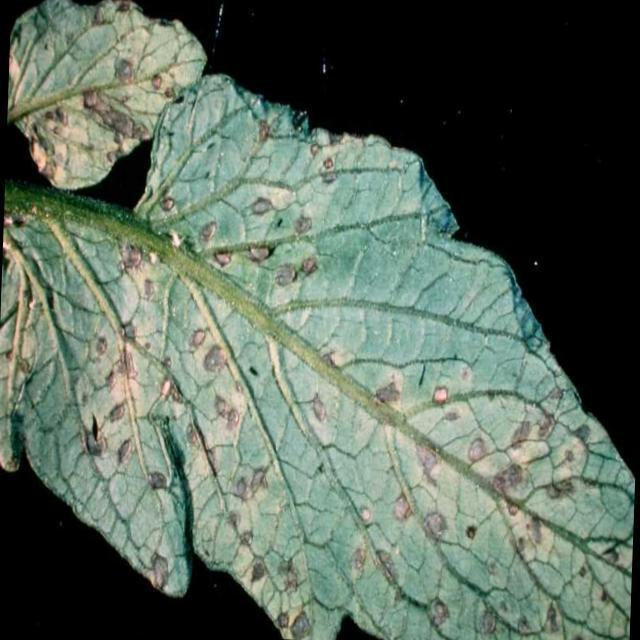Septoria: (0, 61, 640, 640), (5, 1, 212, 184)
